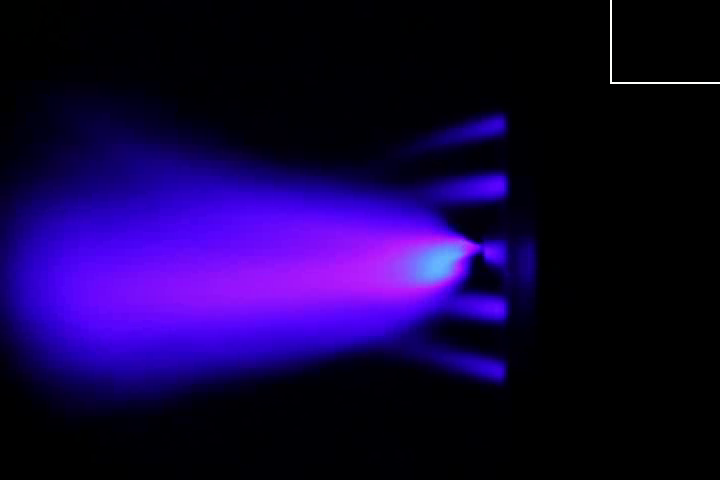burner cap: (484, 236, 509, 270)
pilot flame: (397, 336, 508, 390), (412, 101, 508, 154), (409, 173, 509, 203), (448, 291, 510, 324)
stable: (351, 215, 480, 297)
